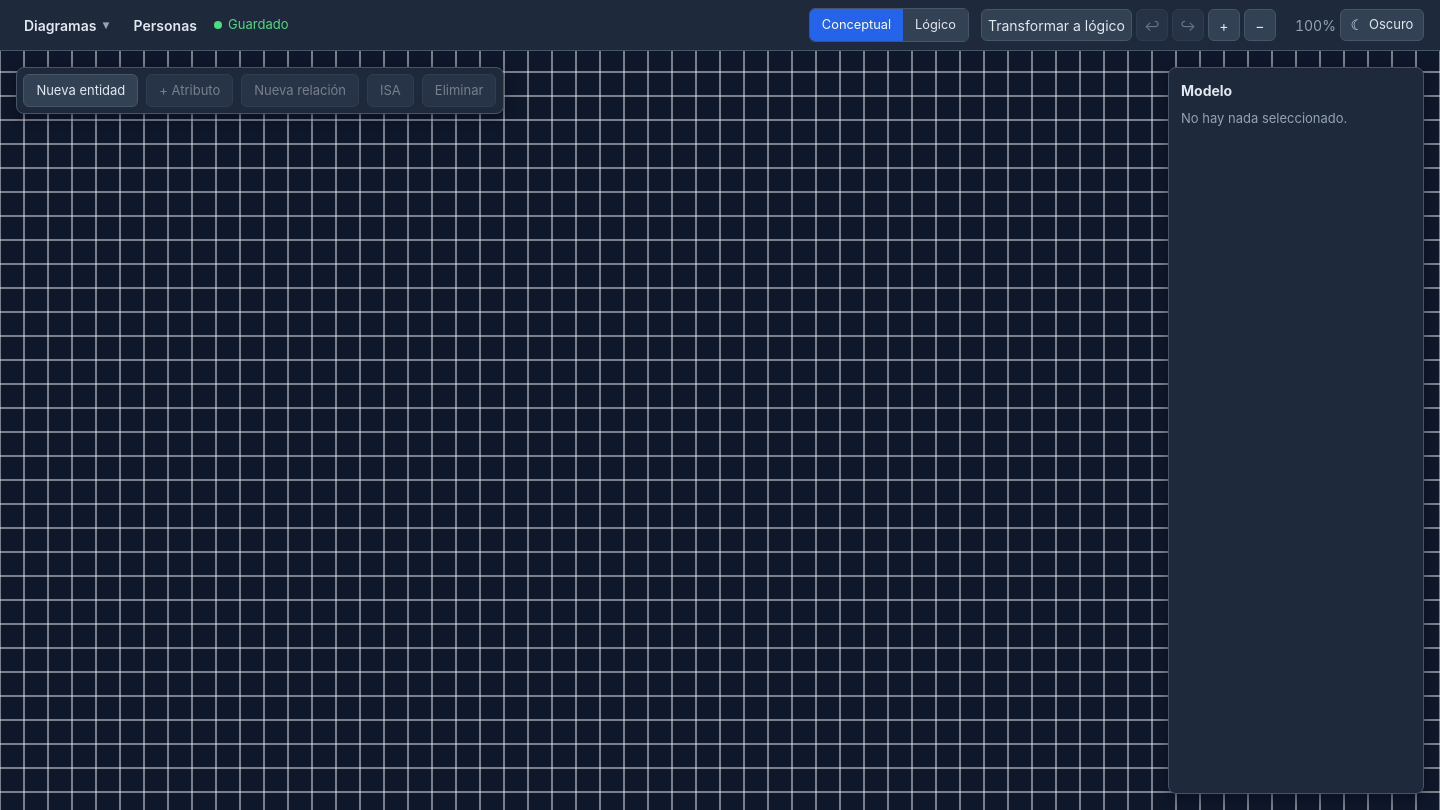
Scenario: EditorPage › Conservar local re-guarda sobre la versión remota y cierra el diálogo (P8.10)
The image size is (1440, 810).
Click the button "Nueva entidad".
click(81, 91)  # box [23, 74, 138, 107]
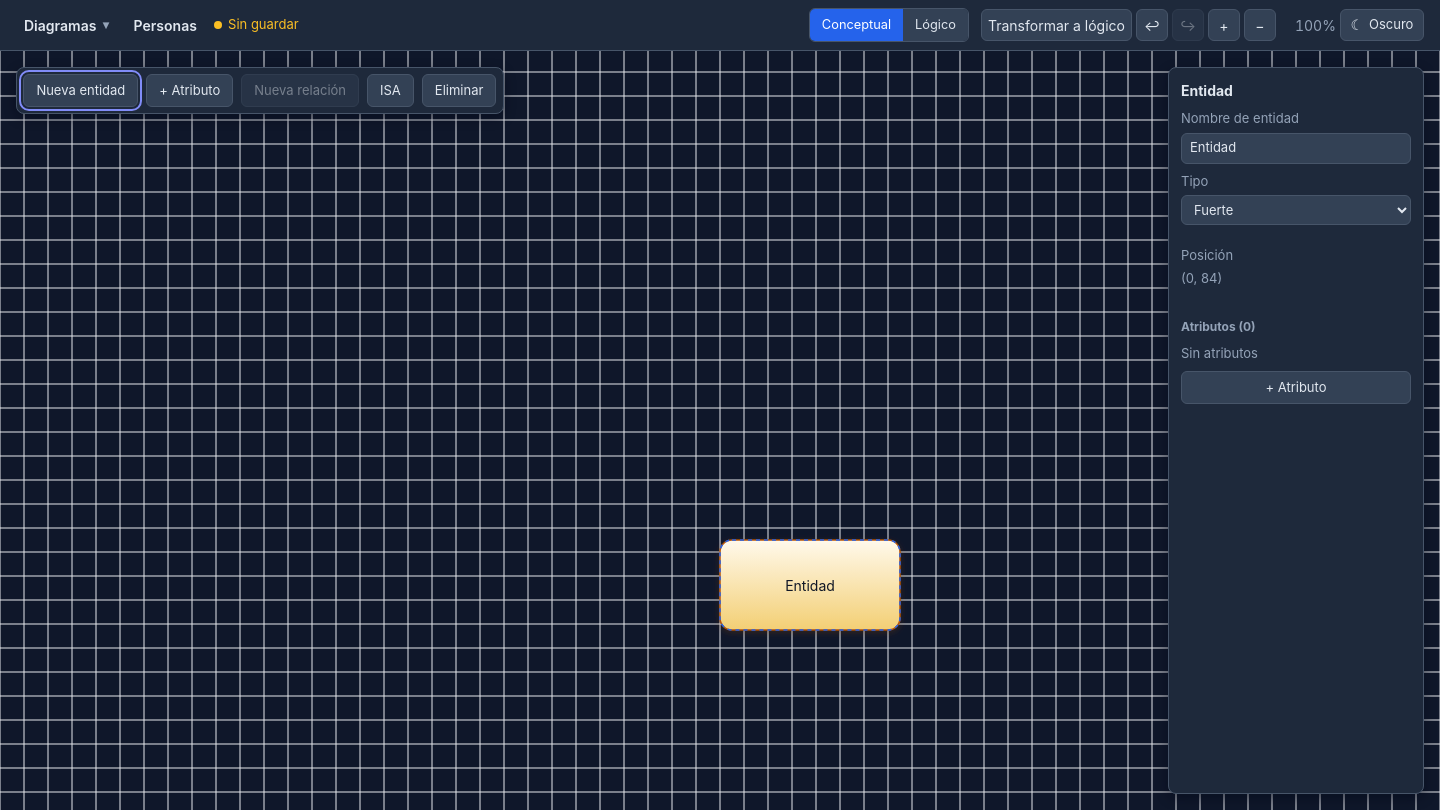
Type keys "{Control>}s{/Control}"
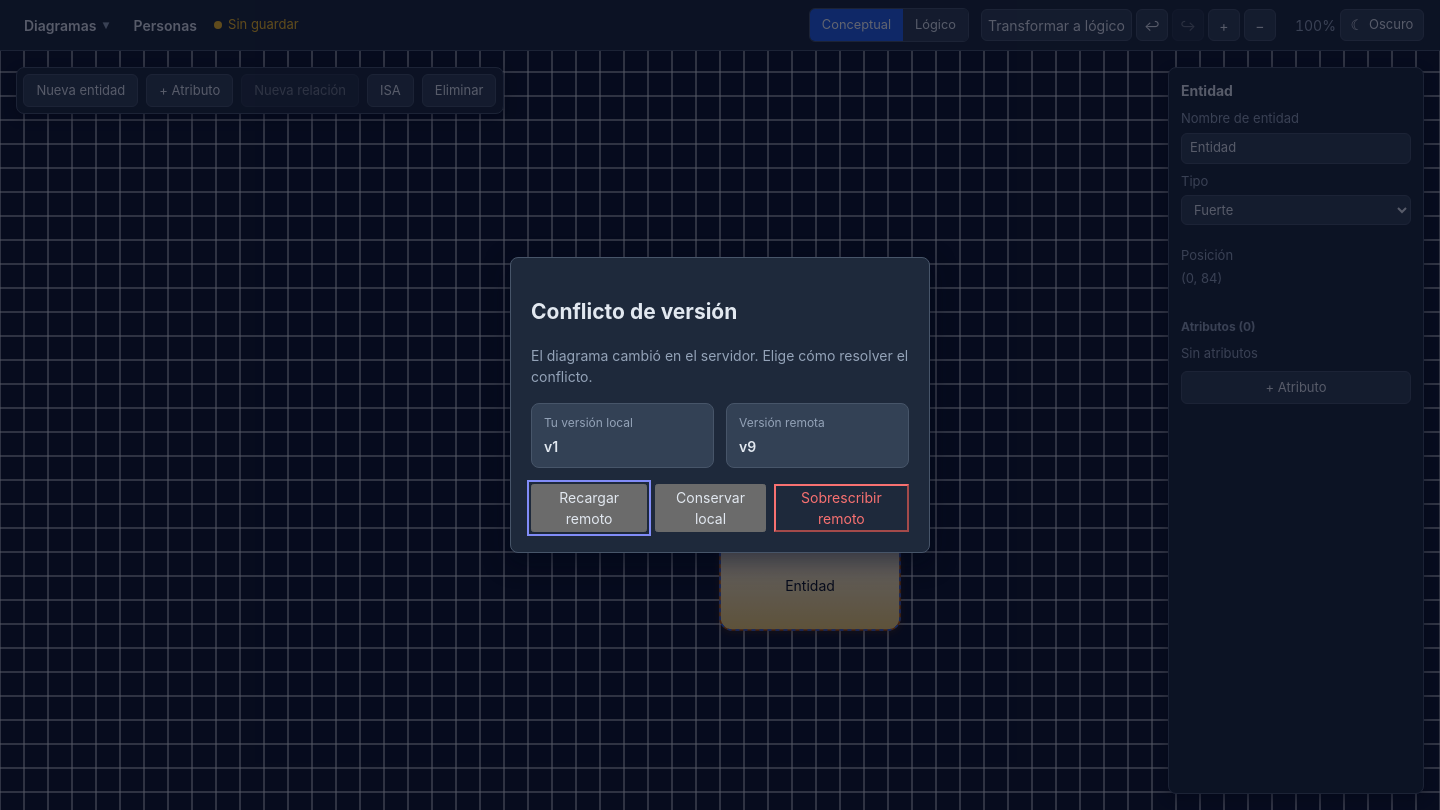
Check: the dialog "Conflicto de versión" is shown, box [510, 257, 930, 553]
Click the button "Conservar local".
click(711, 508)  # box [655, 484, 766, 532]
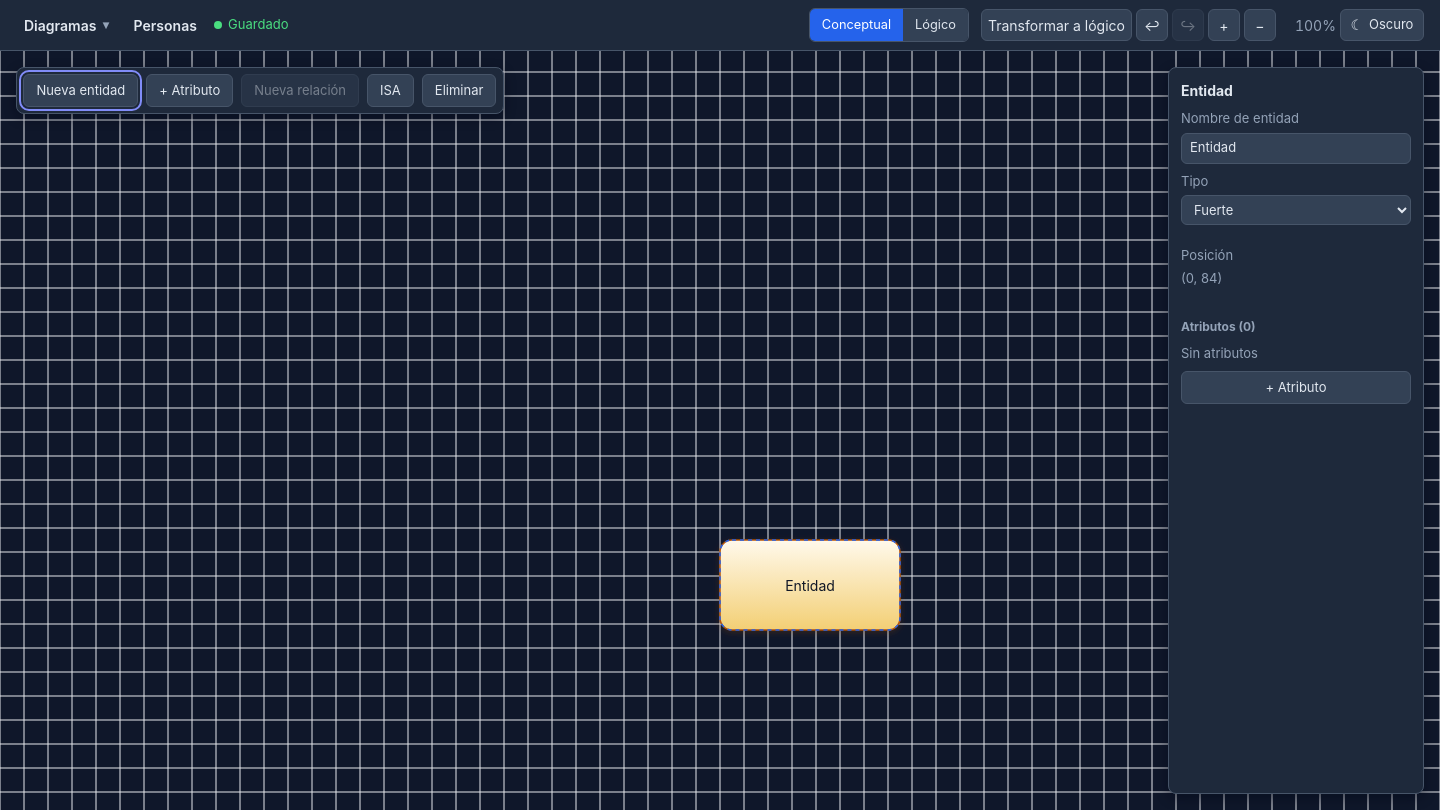
Check: the heading "Conflicto de versión" is gone
Check: the text "Guardado" is shown, box [228, 16, 288, 32]
